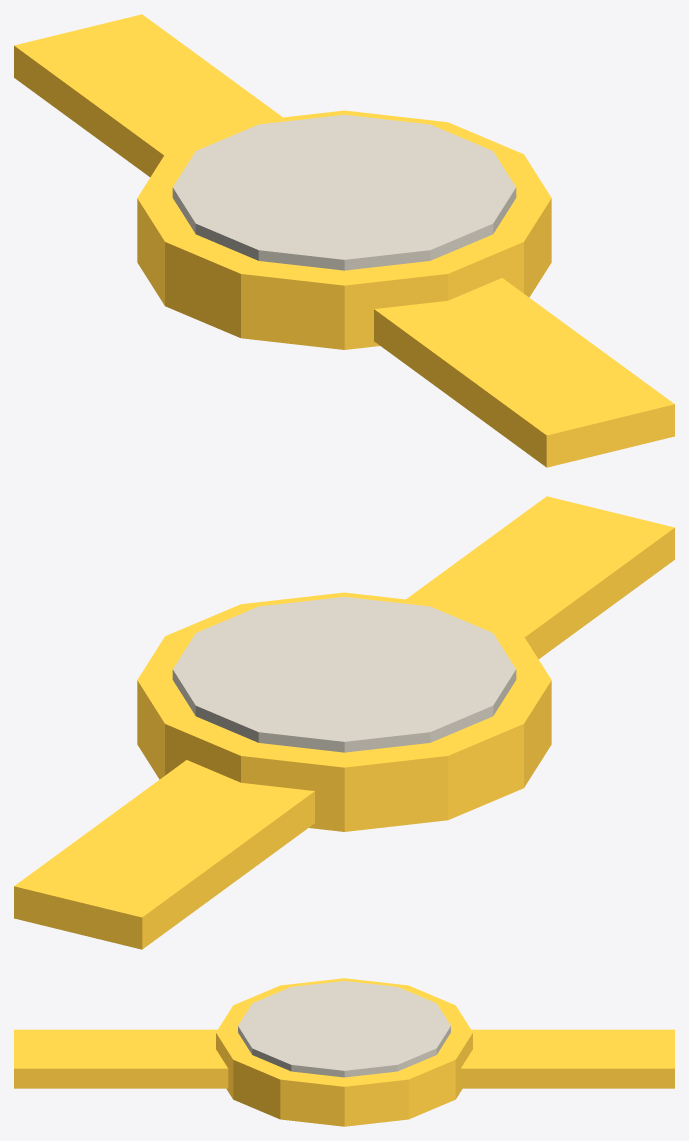
File: gold_watch.glb
3 views of the same model, one above another, from view 1: azimuth 30°, elevation 25°; view 2: azimuth 150°, elevation 25°; view 3: azimuth 270°, elevation 25° (orthographic). The views are drawn at different scales.
Visible parts, largest first — view 1: watch_gold, watch_watch_face; view 2: watch_gold, watch_watch_face; view 3: watch_gold, watch_watch_face.
Part boxes in pixels (box(x1,y1,x2,y2)): watch_gold: box(14, 14, 674, 467); watch_watch_face: box(172, 114, 516, 270); watch_gold: box(14, 496, 674, 949); watch_watch_face: box(172, 596, 516, 752); watch_gold: box(14, 978, 674, 1126); watch_watch_face: box(238, 981, 450, 1077).
Bounding box in the file's own units: 0.07 × 0.014 × 0.18.
